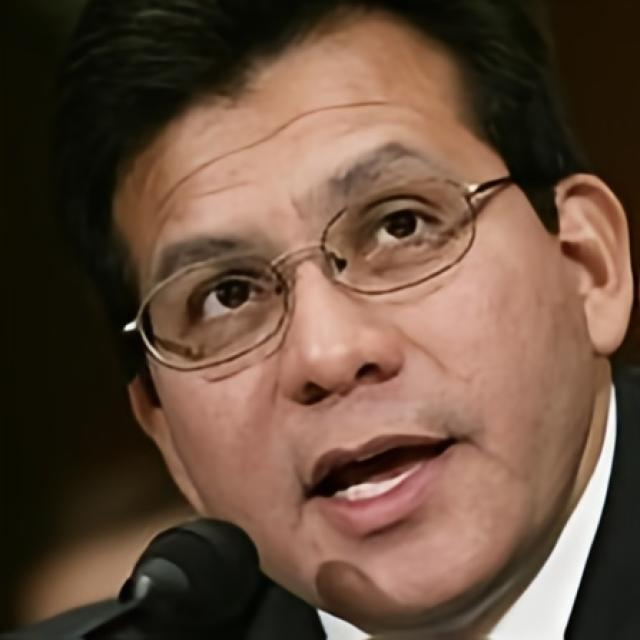surprise: (107, 1, 590, 634)
